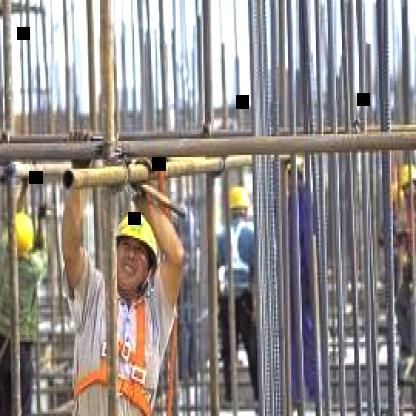helmet: (111, 206, 163, 296), (9, 206, 39, 266), (219, 180, 254, 224)
